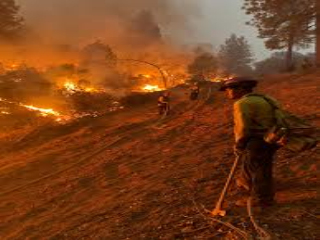fire: (64, 72, 175, 97), (9, 92, 66, 125), (118, 52, 194, 75)
